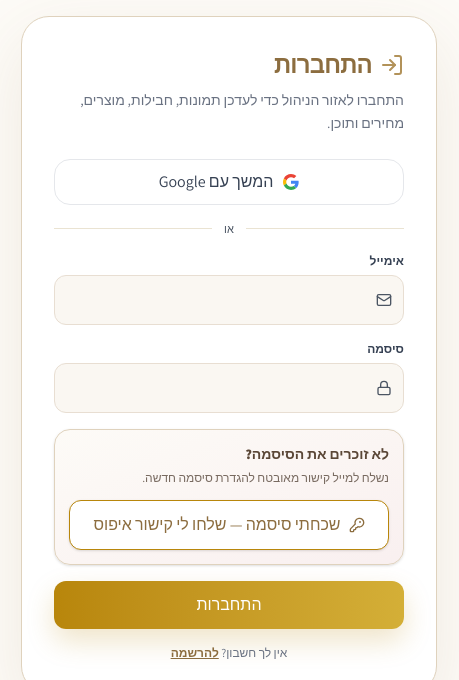
it: LoginPage › shows reset errors and can return to login
The width and height of the screenshot is (459, 680).
Click the button "שכחתי סיסמה — שלחו לי קישור איפוס" at (229, 524), box [69,500,389,550]
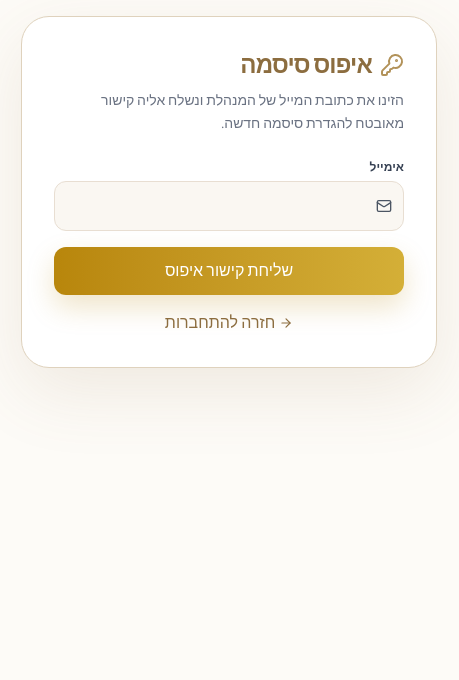
Type "a@b.com" into the field labelled "אימייל" at (229, 206), box [54,180,404,230]
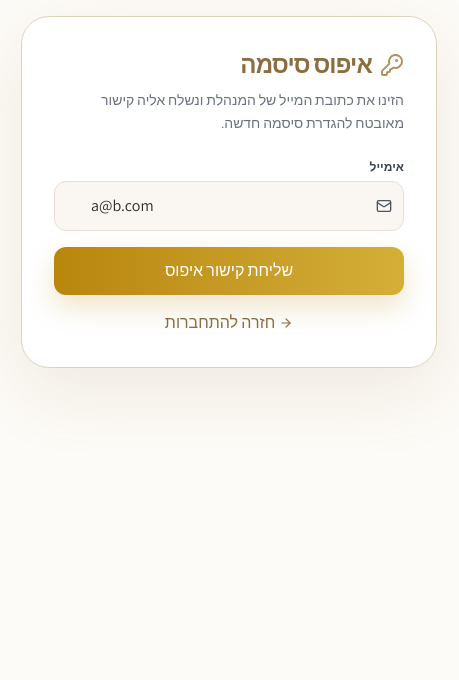
Click the button "שליחת קישור איפוס" at (229, 270), box [54,246,404,294]
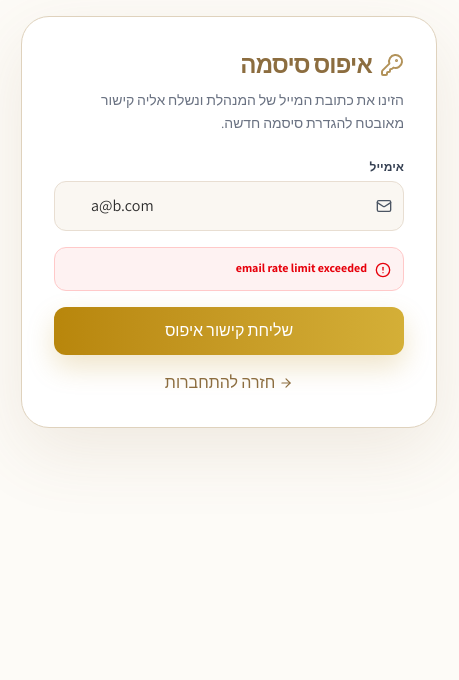
Now the text "email rate limit exceeded" is shown, box [54,246,404,290]
Click the button "חזרה להתחברות" at (229, 382), box [165,370,293,394]
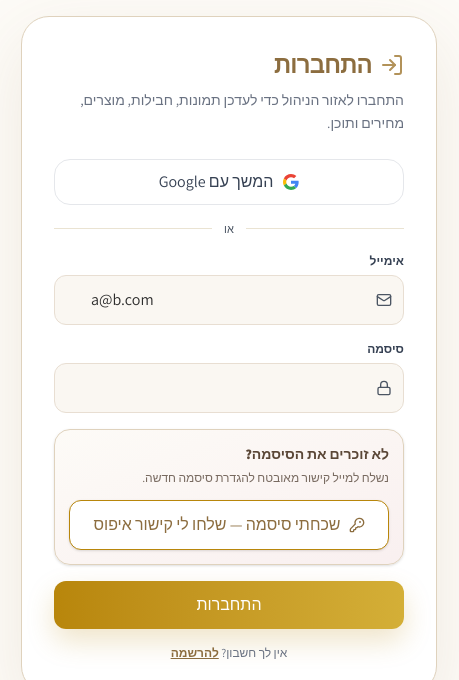
Now the password field labelled "סיסמה" is shown, box [54,363,404,413]
